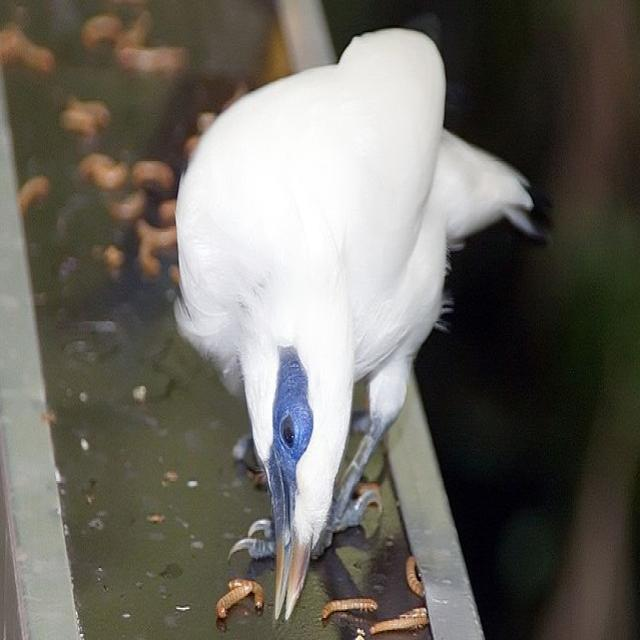Jalak Bali: (146, 0, 564, 634)
